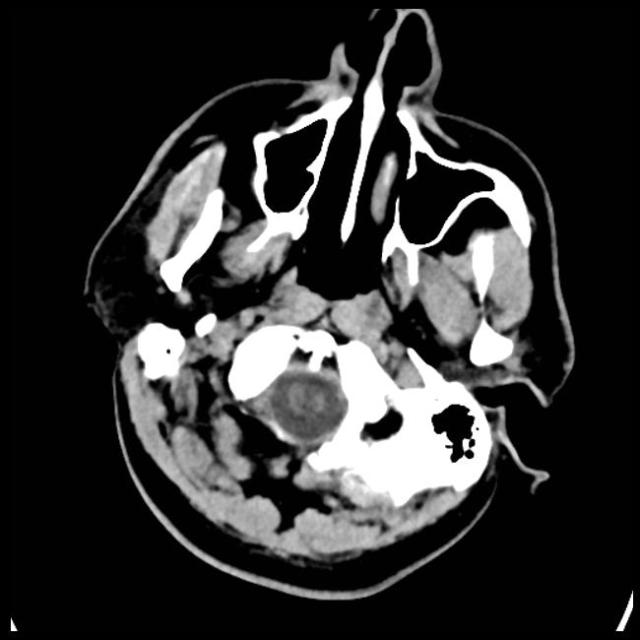lesion: (81, 6, 579, 592)
